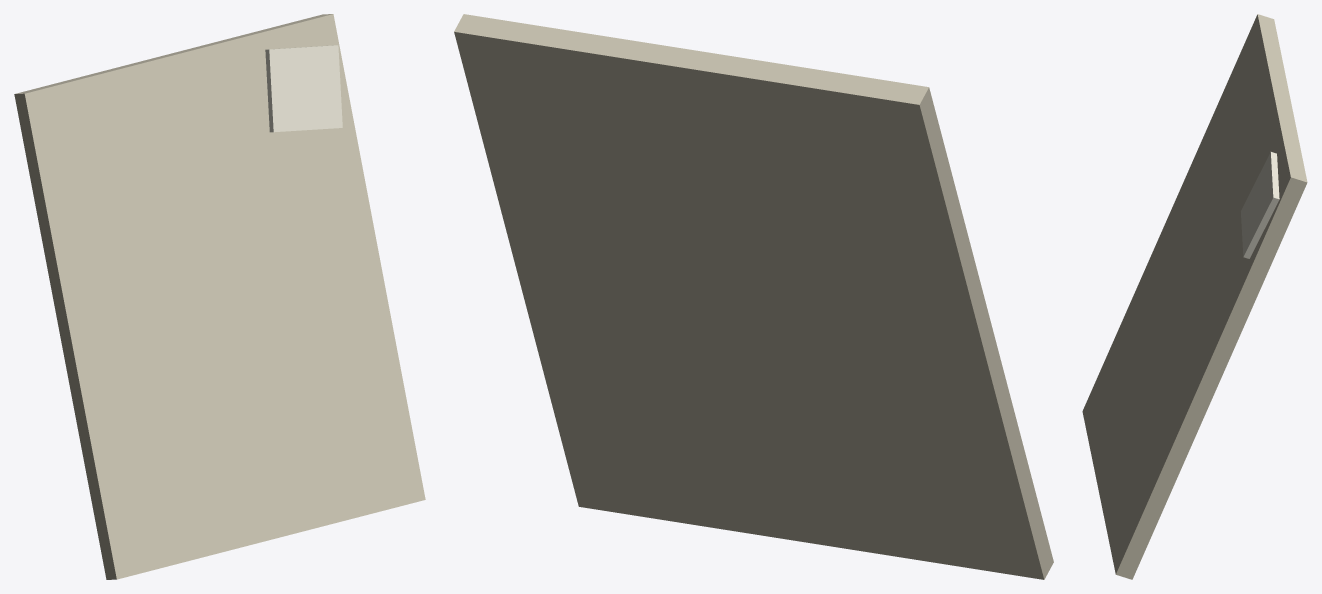
File: vale-guarantor-slip.glb
3 renders of one model, left to right at view 1: azimuth 30°, elevation 25°; view 2: azimuth 150°, elevation 25°; view 3: azimuth 270°, elevation 25°, orthographic. The views are drawn at different scales.
Parts seen in each view (by area): view 1: loose_note; view 2: loose_note; view 3: loose_note.
Boxes of the visible parts, x1,y1,x2,y2 form: loose_note: [14, 14, 425, 579]; loose_note: [454, 14, 1053, 579]; loose_note: [1082, 14, 1307, 579].
Size of the model in its own units: 0.32 by 0.4078 by 0.2002.
